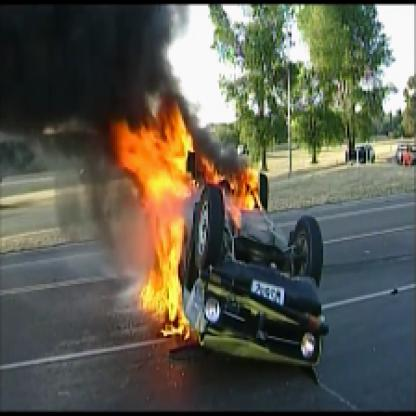Fire: (97, 102, 256, 338)
